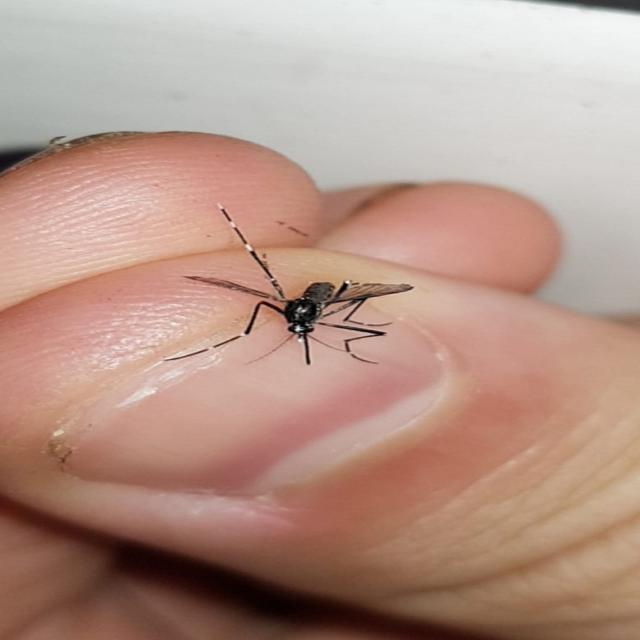albopictus: (157, 195, 420, 368)
